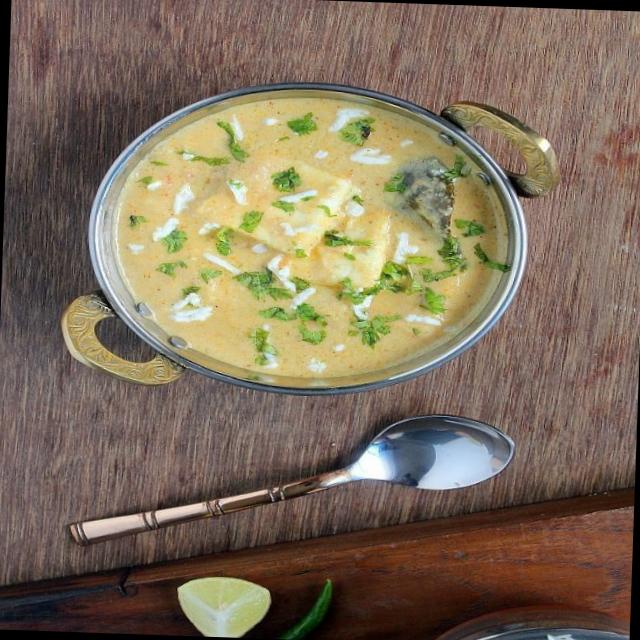ShahiPaneer: (119, 83, 512, 384)
